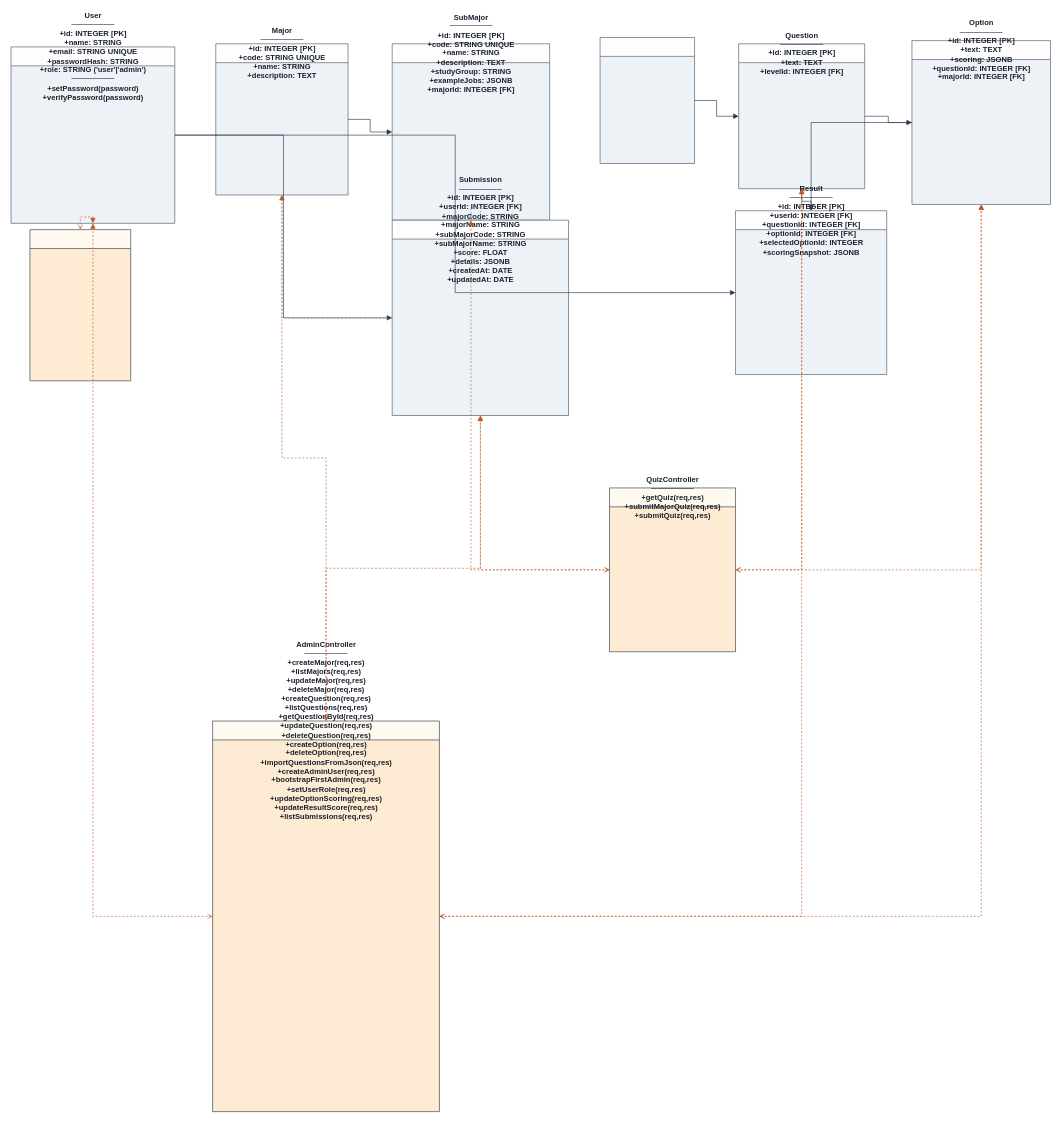
Some shapes in this 1062 by 1123 pixel diagram are drawn without their labels. The centre of each missing label's shape, as x and y in pixels:
AuthController ──────── +register(req,res) +login(req,res): pixel 80 305
Level ──────── +id: INTEGER [PK] +name: STRING: pixel 647 100
